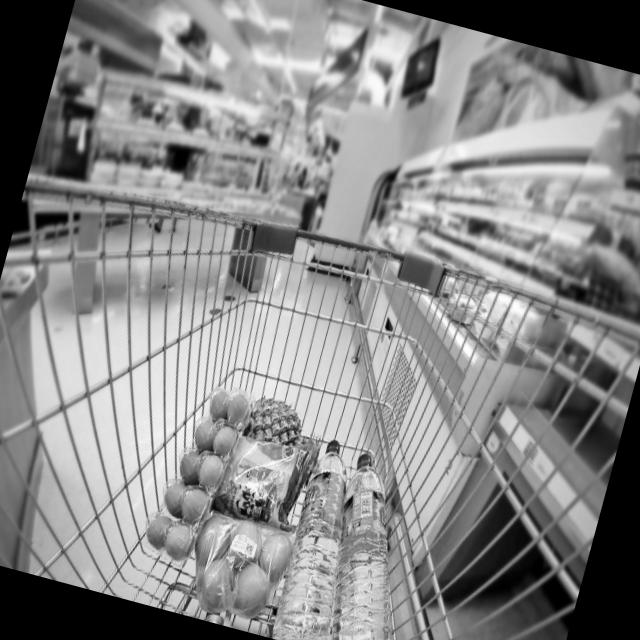dua: (232, 382, 321, 456)
trung: (142, 368, 255, 572)
